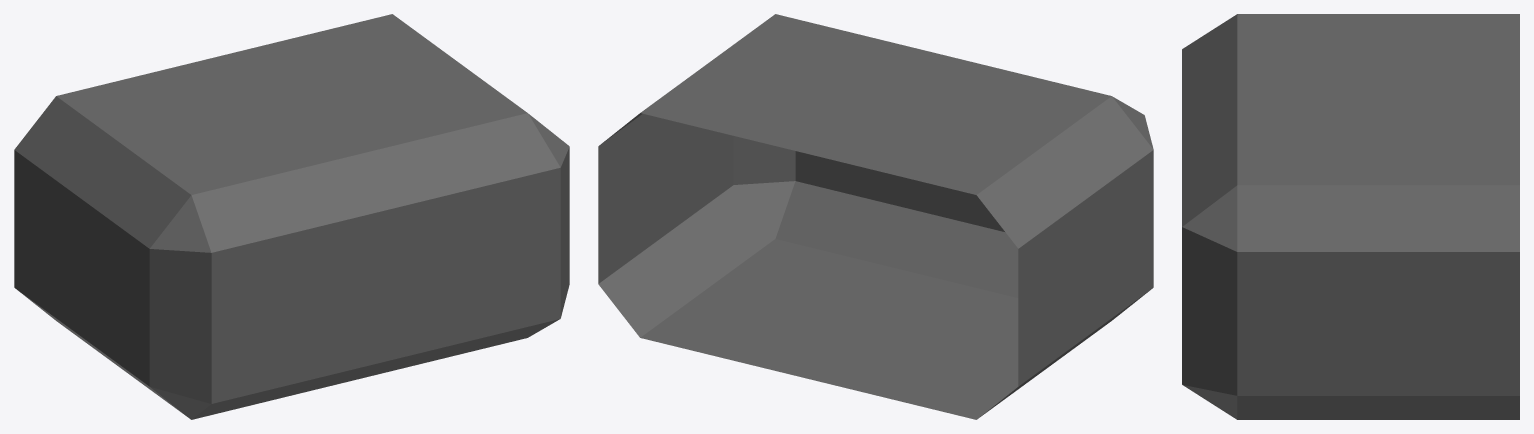
Rendered from Wall_Brick.fbx.
3 views of the same model, side by side, from view 1: azimuth 30°, elevation 25°; view 2: azimuth 150°, elevation 25°; view 3: azimuth 270°, elevation 25° (orthographic). The views are drawn at different scales.
Visible parts, largest first — view 1: Wall_Brick.001; view 2: Wall_Brick.001; view 3: Wall_Brick.001.
Boxes of the visible parts, box(x1,y1,x2,y2) form: Wall_Brick.001: box(14, 14, 569, 419); Wall_Brick.001: box(598, 14, 1153, 419); Wall_Brick.001: box(1182, 14, 1519, 419).
Size of the model in its own units: 0.9989 by 0.5109 by 0.6663.
1 material, 1 textured.
